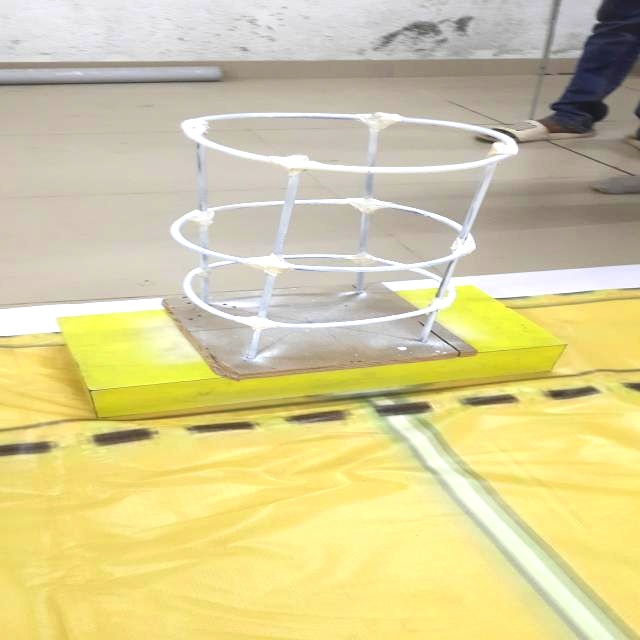silo: (134, 96, 522, 368)
